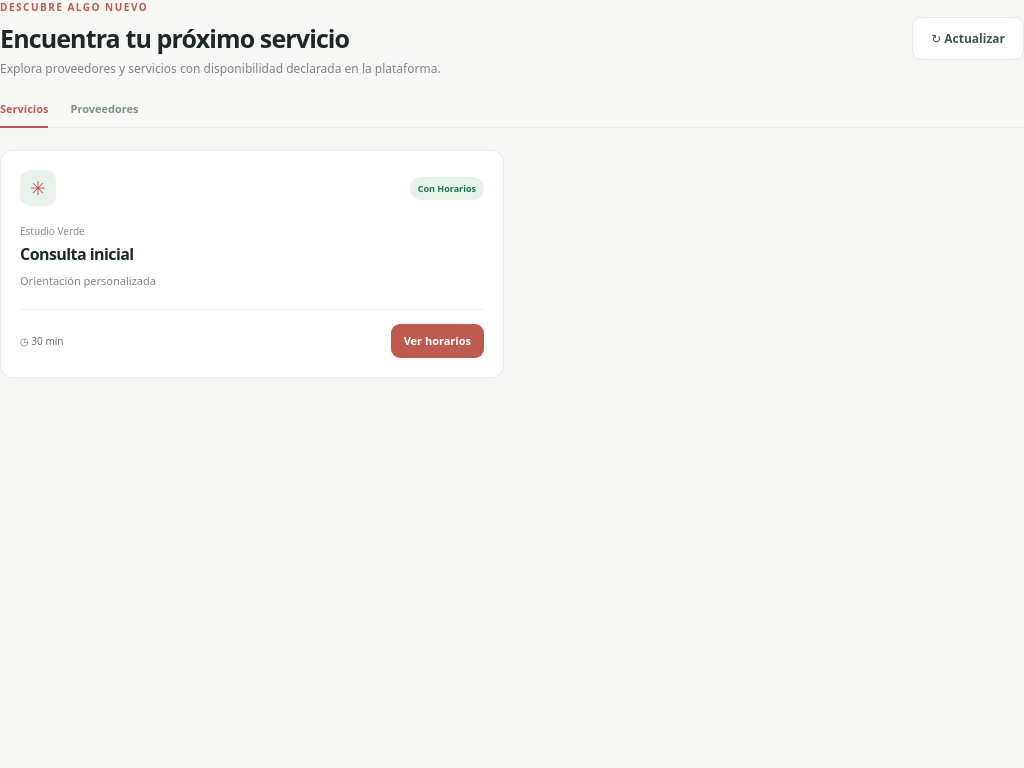
Test: ExplorePage › shows the server conflict when a selected schedule is no longer available
Click the button "Ver horarios" at (437, 341), box [391,324,484,358]
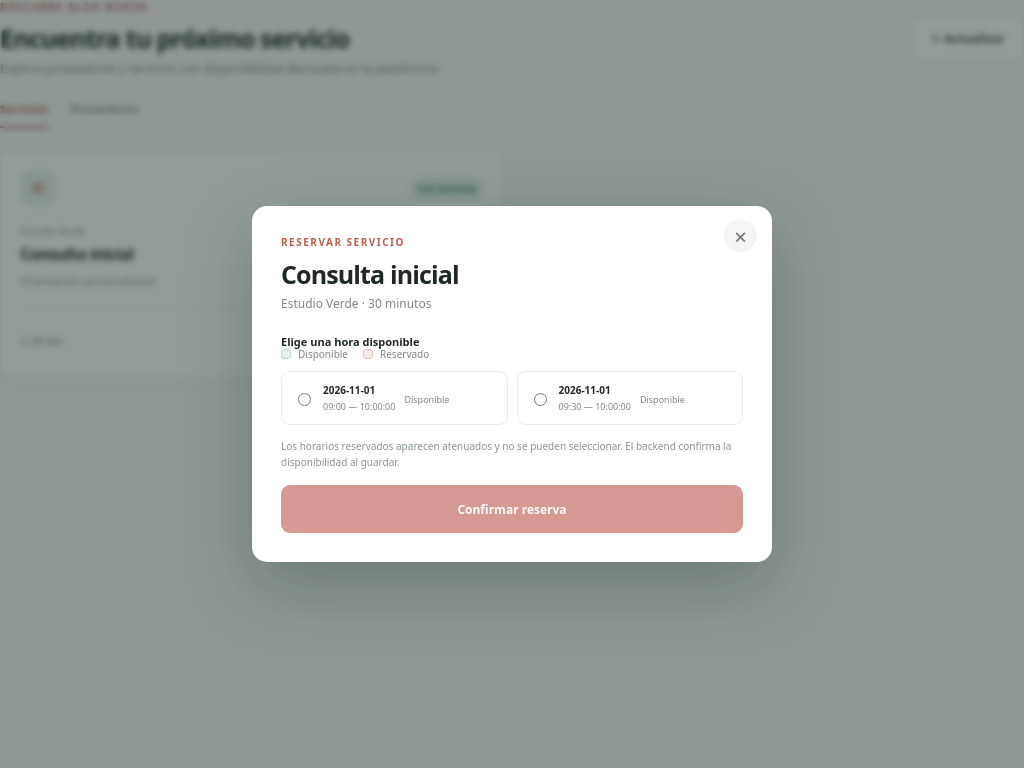
Click the radio button labelled "2026-11-01 09:00 — 10:00:00 Disponible" at (304, 400), box [298,393,311,406]
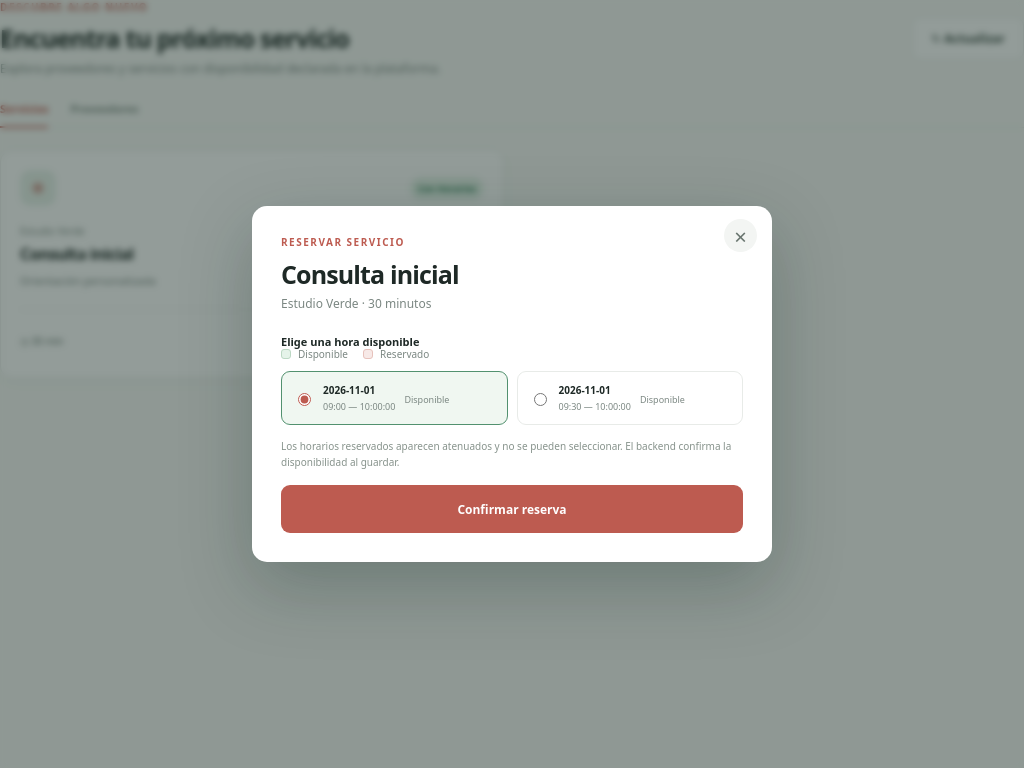
Click the button "Confirmar reserva" at (512, 509), box [281,485,743,533]
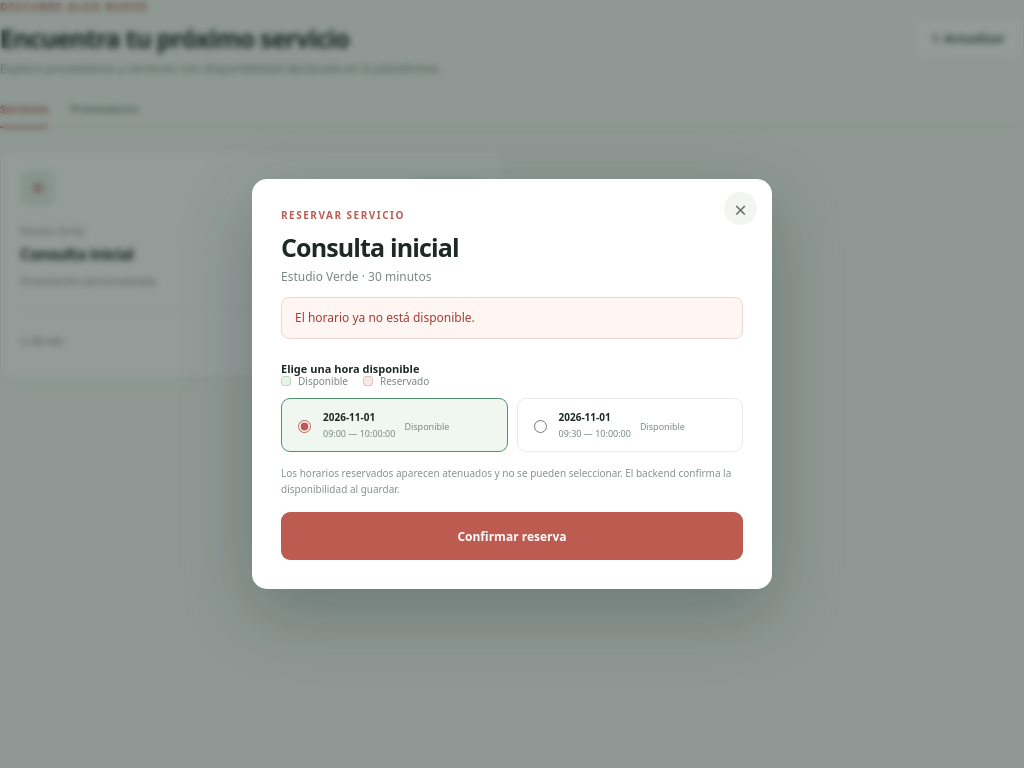
Check: the message reads "El horario ya no está disponible.", box [295,309,475,326]
